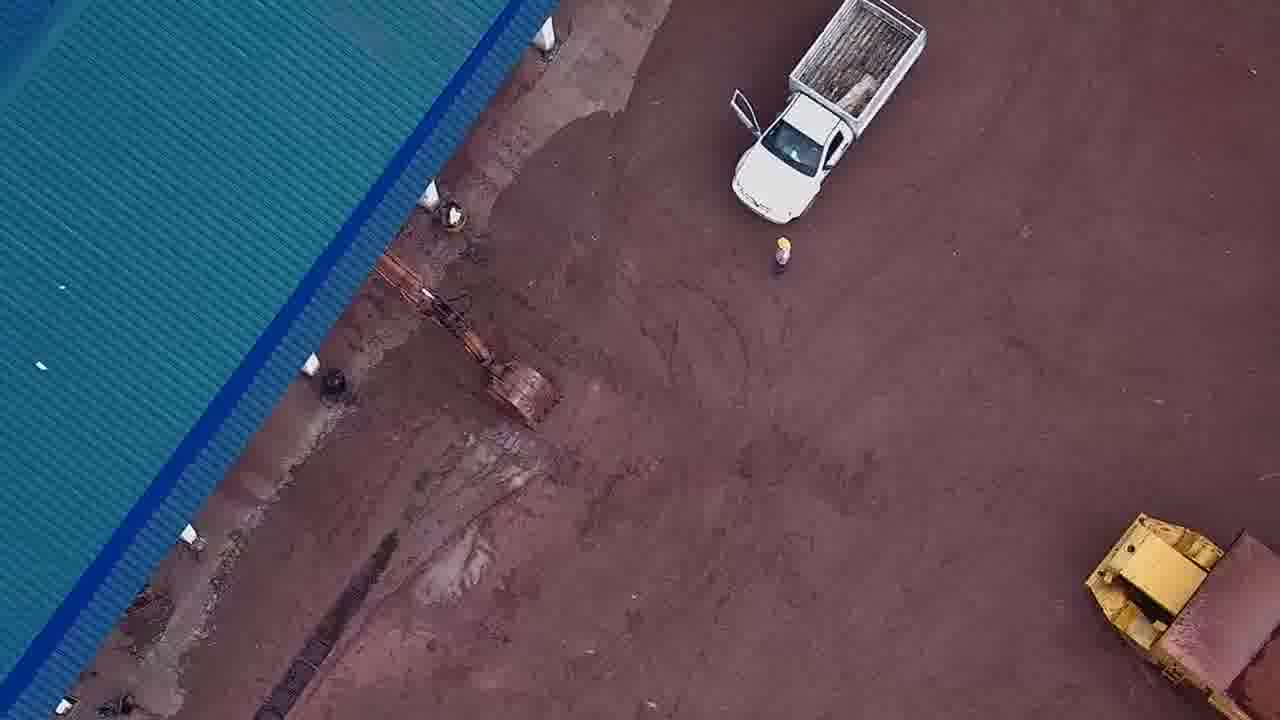light_motor_vehicle: (729, 1, 929, 227)
person: (773, 235, 793, 279)
